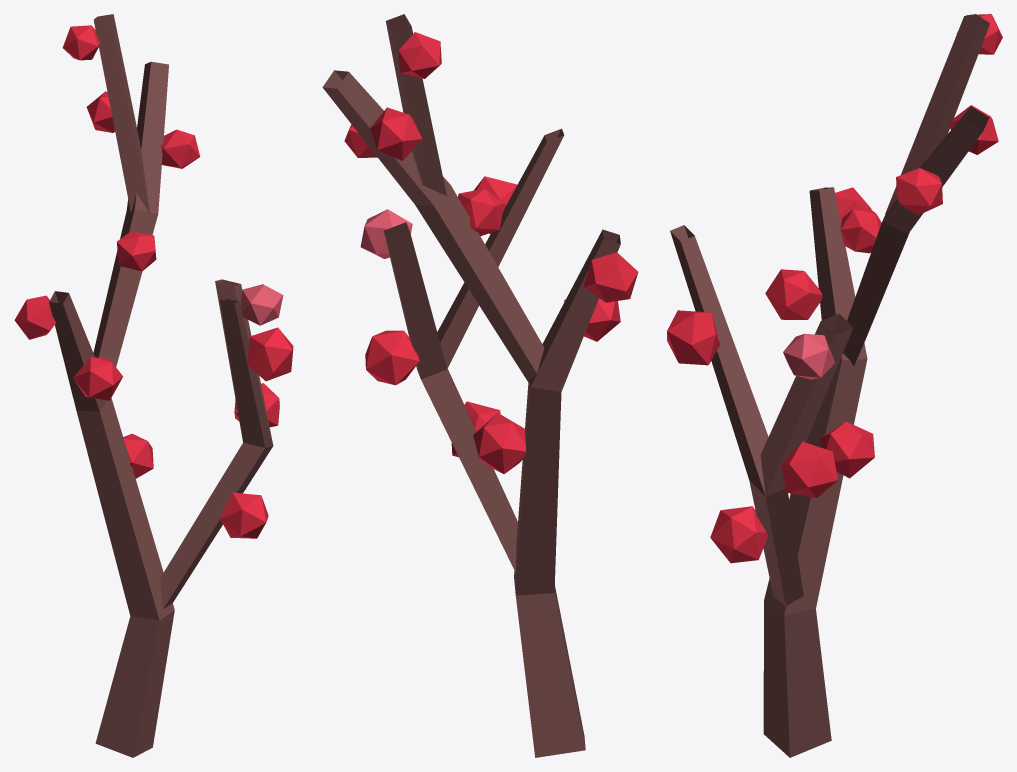
File: winterPlant3.fbx
The picture shows the model from 3 angles, left to right: view 1: azimuth 30°, elevation 25°; view 2: azimuth 150°, elevation 25°; view 3: azimuth 270°, elevation 25°; orthographic projection. The views are drawn at different scales.
Visible parts, largest first — view 1: WinterPlant2; view 2: WinterPlant2; view 3: WinterPlant2.
Boxes of the visible parts, bbox=[...] form: WinterPlant2: bbox=[14, 14, 293, 757]; WinterPlant2: bbox=[322, 14, 638, 757]; WinterPlant2: bbox=[667, 14, 1002, 757].
Bounding box in the file's own units: 380 × 990 × 396.
